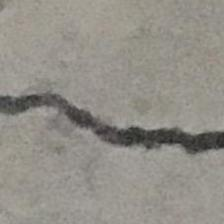Crack: (0, 80, 224, 171)
